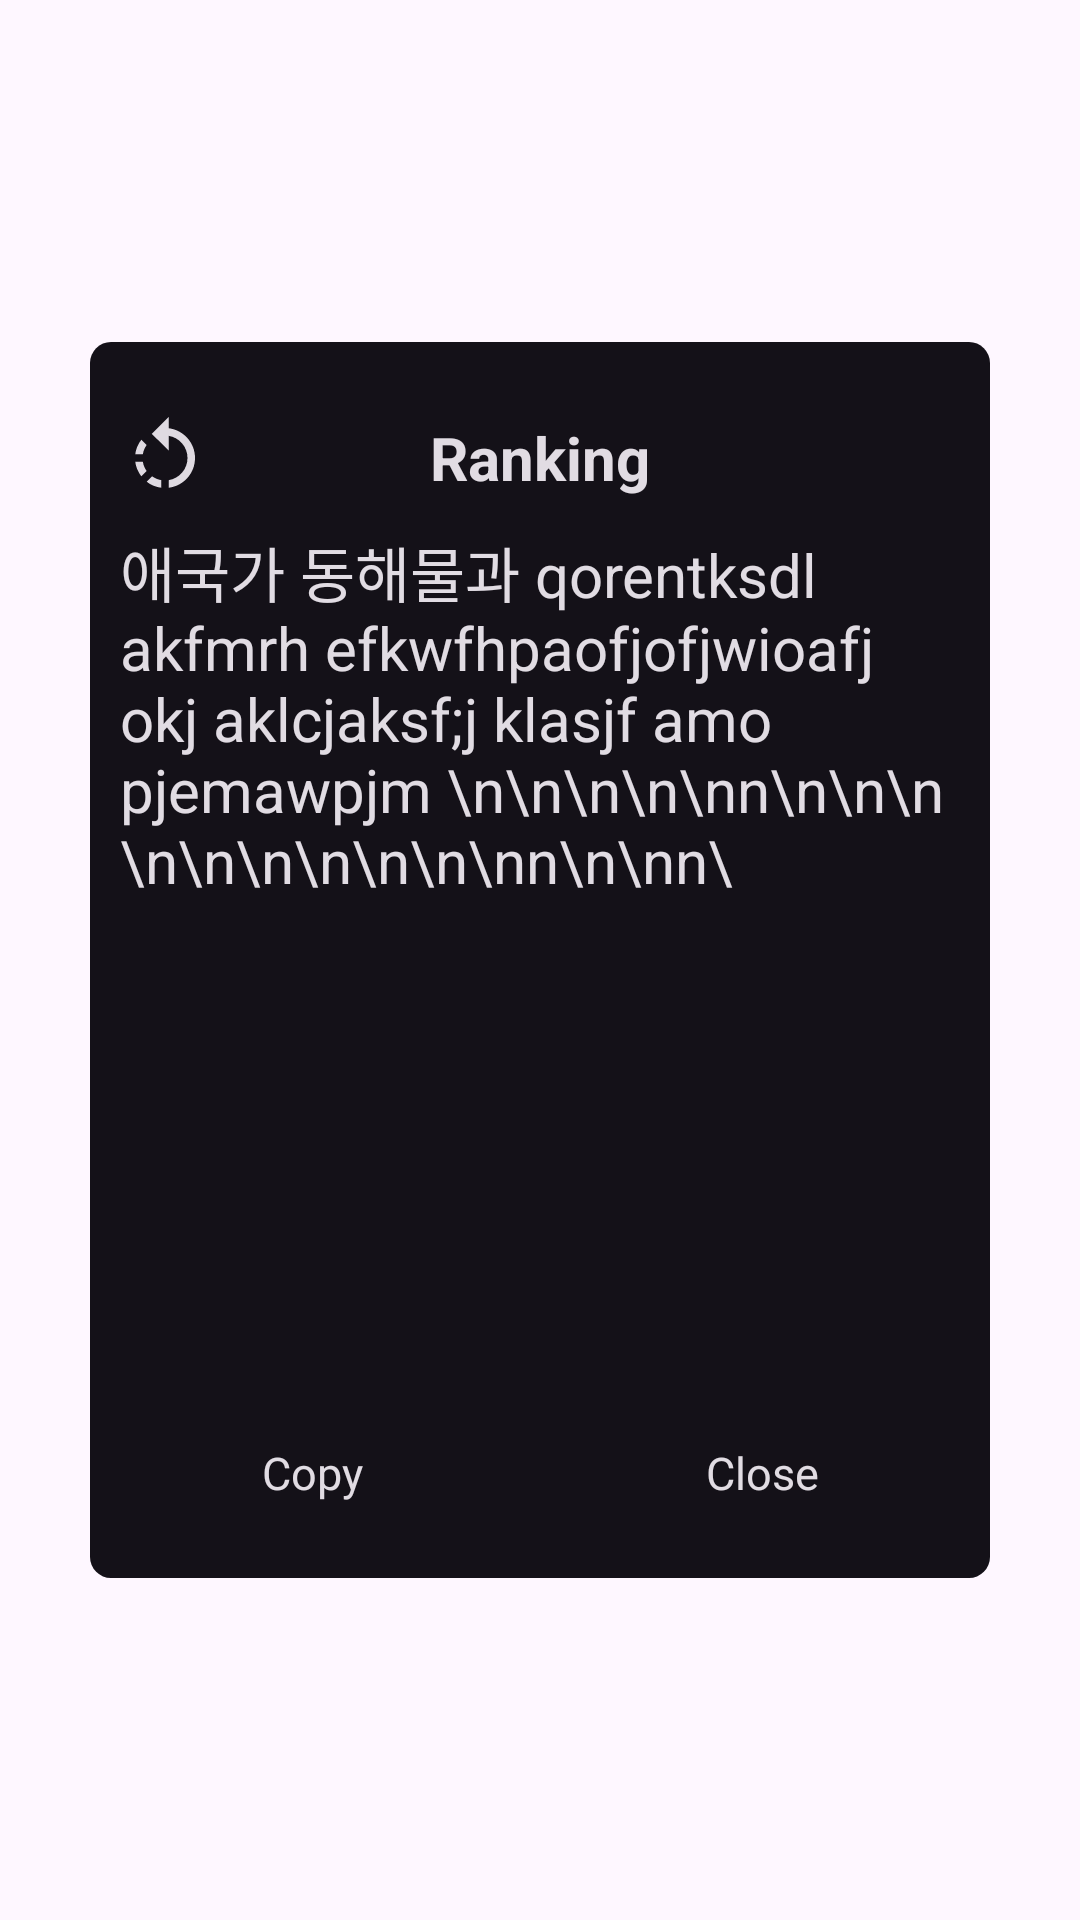

Named icons in this screenshot (1080px×1920px) and their centers, (x=x, y=y):
rotate left: (x=165, y=452)
